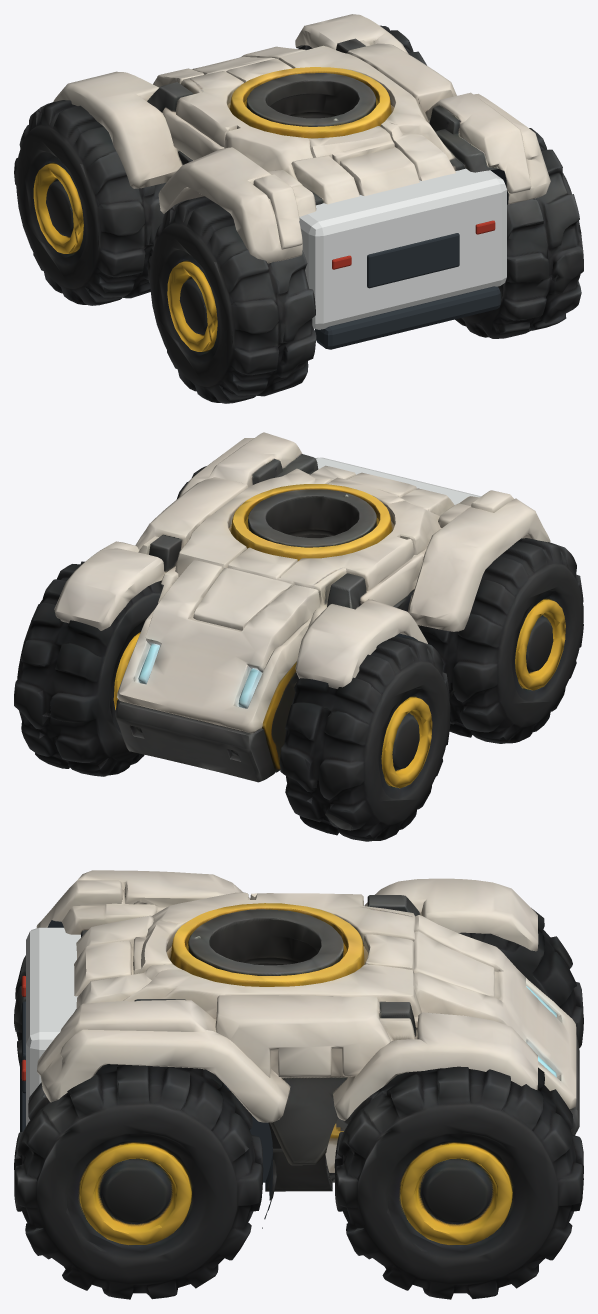
The model's file is scout_wheels.glb.
3 views of the same model, one above another, from view 1: azimuth 30°, elevation 25°; view 2: azimuth 150°, elevation 25°; view 3: azimuth 270°, elevation 25° (orthographic). The views are drawn at different scales.
Parts seen in each view (by area): view 1: Body.027, TireLeftRear.007, TireLeftFront.007, DistinctRearArmor.001, TireRightRear.007, RearBumper.001, RearInsetGrille.001; view 2: Body.027, TireLeftFront.007, TireLeftRear.007, TireRightFront.007, DistinctRearArmor.001; view 3: Body.027, TireRightRear.007, TireRightFront.007, DistinctRearArmor.001, TireLeftFront.007, TireLeftRear.007.
Boxes of the visible parts, left/top/right/bottom form: Body.027: left=53, top=14, right=550, bottom=263; TireLeftRear.007: left=148, top=196, right=316, bottom=403; TireLeftFront.007: left=14, top=100, right=165, bottom=305; DistinctRearArmor.001: left=299, top=168, right=506, bottom=329; TireRightRear.007: left=455, top=128, right=583, bottom=338; RearBumper.001: left=315, top=286, right=500, bottom=349; RearInsetGrille.001: left=367, top=233, right=459, bottom=288; Body.027: left=54, top=432, right=550, bottom=830; TireLeftFront.007: left=279, top=636, right=450, bottom=841; TireLeftRear.007: left=419, top=538, right=583, bottom=743; TireRightFront.007: left=14, top=561, right=163, bottom=776; DistinctRearArmor.001: left=315, top=457, right=480, bottom=504; Body.027: left=36, top=870, right=579, bottom=1228; TireRightRear.007: left=14, top=1064, right=263, bottom=1299; TireRightFront.007: left=334, top=1066, right=583, bottom=1299; DistinctRearArmor.001: left=26, top=927, right=80, bottom=1126; TireLeftFront.007: left=458, top=908, right=583, bottom=1047; TireLeftRear.007: left=14, top=955, right=25, bottom=1065.
Size of the model in its own units: 1.65 by 0.9923 by 1.92.
5 materials, 2 textured.
